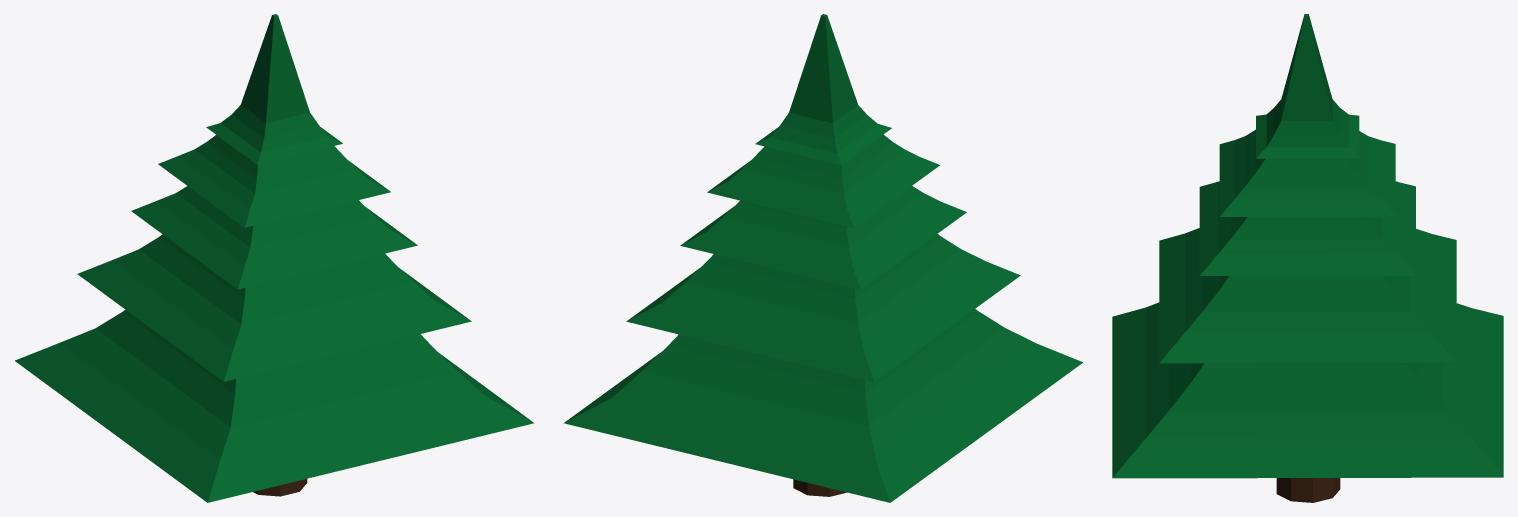
The model's file is Tree2.fbx.
3 views of the same model, side by side, from view 1: azimuth 30°, elevation 25°; view 2: azimuth 150°, elevation 25°; view 3: azimuth 270°, elevation 25° (orthographic).
Parts seen in each view (by area): view 1: Cube, Cube.001, Cube.002, Cube.003, Cube.004; view 2: Cube, Cube.001, Cube.002, Cube.003, Cube.004; view 3: Cube, Cube.001, Cube.002, Cube.003, Cube.004, Cylinder.
Boxes of the visible parts, bbox=[...] form: Cube: bbox=[15, 310, 534, 502]; Cube.001: bbox=[77, 234, 471, 381]; Cube.002: bbox=[131, 186, 417, 289]; Cube.003: bbox=[158, 135, 390, 227]; Cube.004: bbox=[206, 14, 342, 164]; Cube: bbox=[564, 309, 1082, 502]; Cube.001: bbox=[626, 234, 1020, 381]; Cube.002: bbox=[680, 186, 966, 289]; Cube.003: bbox=[707, 134, 939, 228]; Cube.004: bbox=[755, 14, 891, 164]; Cube: bbox=[1112, 302, 1503, 478]; Cube.001: bbox=[1159, 228, 1456, 363]; Cube.002: bbox=[1199, 181, 1415, 275]; Cube.003: bbox=[1219, 129, 1395, 216]; Cube.004: bbox=[1256, 14, 1359, 158]; Cylinder: bbox=[1276, 478, 1340, 502].
Size of the model in its own units: 596 by 816 by 610.
